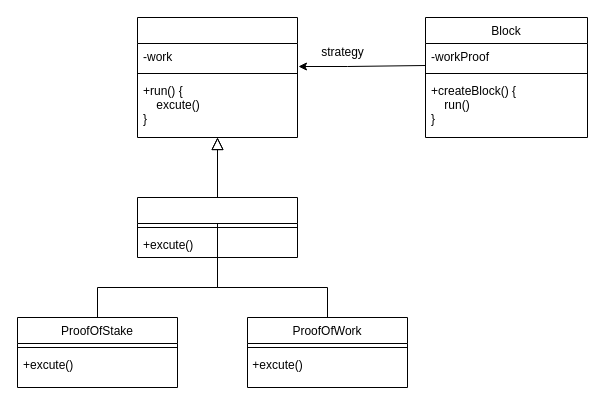
Some shapes in this 605 by 405 pixel diagram are drawn without their labels. Here are the shapes that lost their labels. From the top down, the box of each, then its label:
(136, 16, 298, 138): WorkProof
(136, 196, 298, 258): Interface
